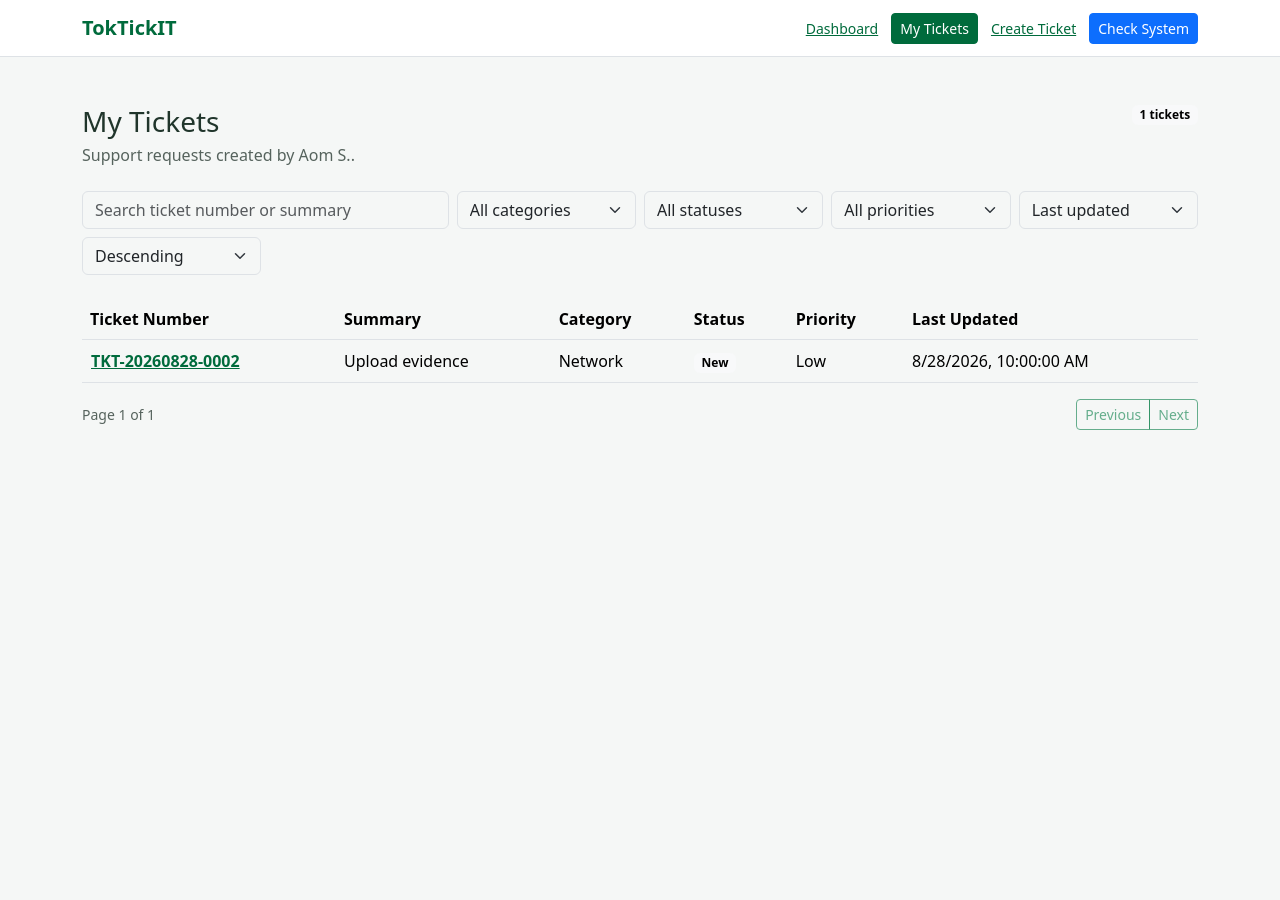
Test: Attachment section › retains removed attachment metadata and its reason when the API returns 204 No Content
Click the button "TKT-20260828-0002": (165, 361) [90,348,241,374]
(page scrolled)
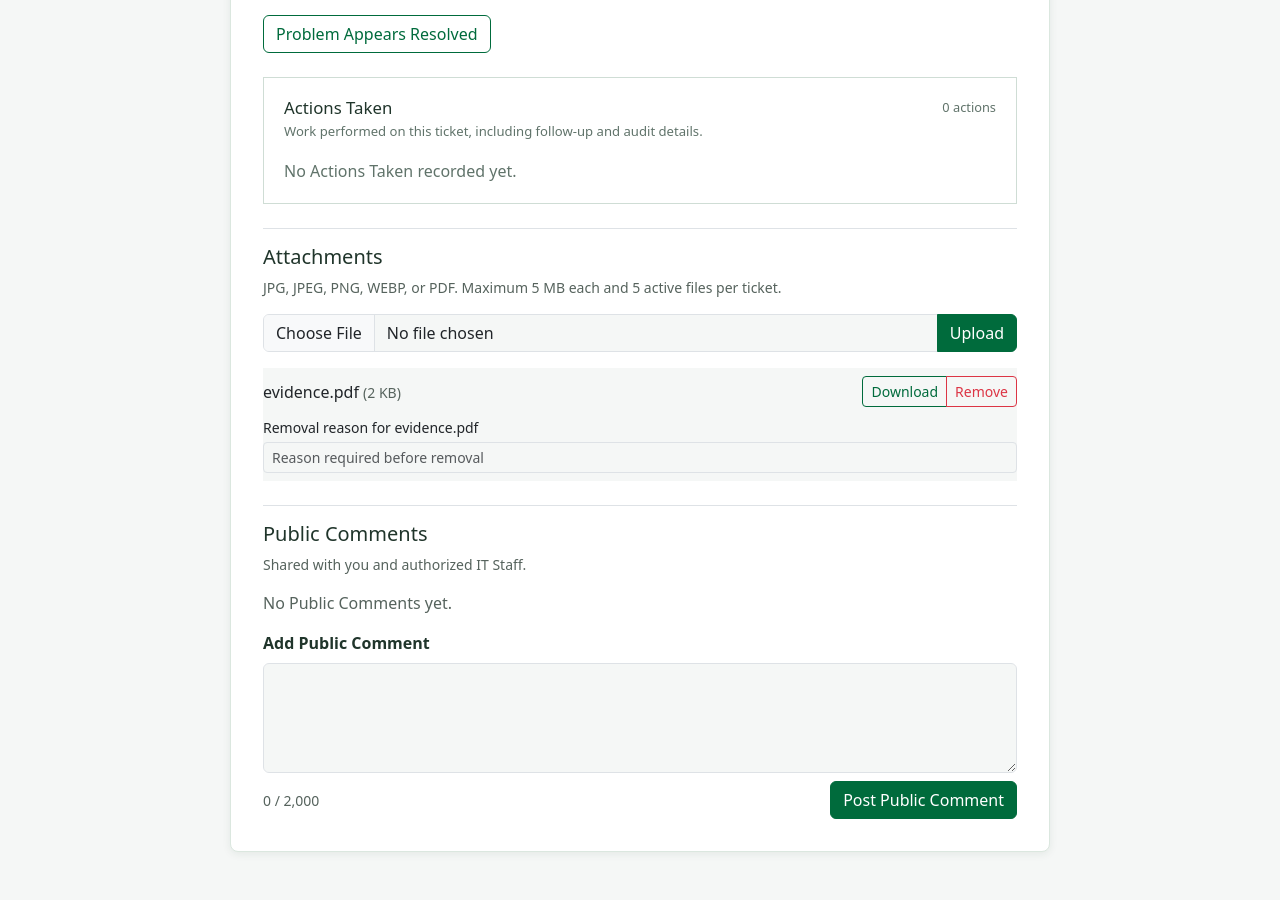
Check: the file field named "attachment file" is shown, box [263,314,938,352]
In the field labelled "Removal reason for evidence.pdf": (640, 458) [263,442,1017,473], type "Uploaded the wrong evidence file."
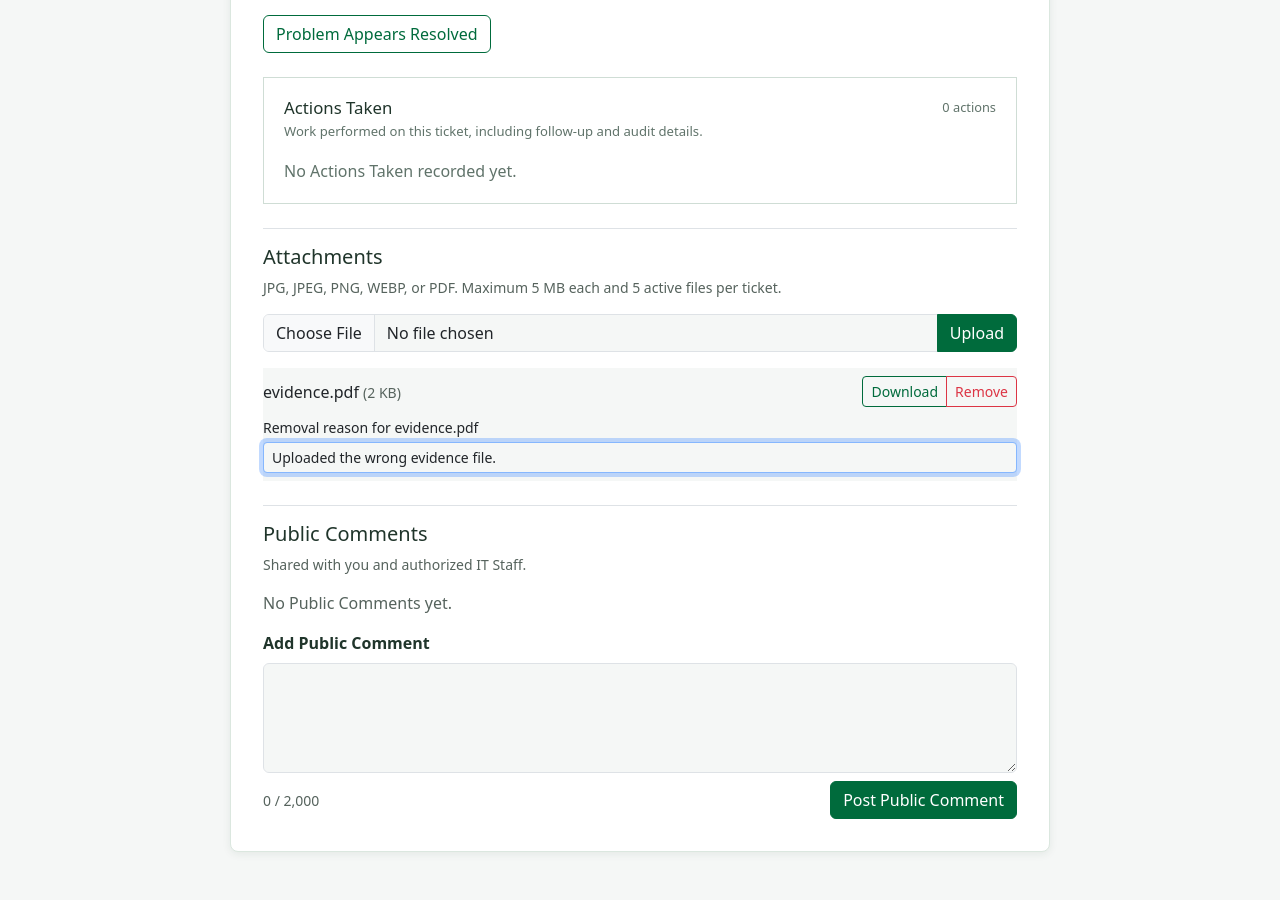
Click the button "Remove": (982, 392) [946,376,1017,407]
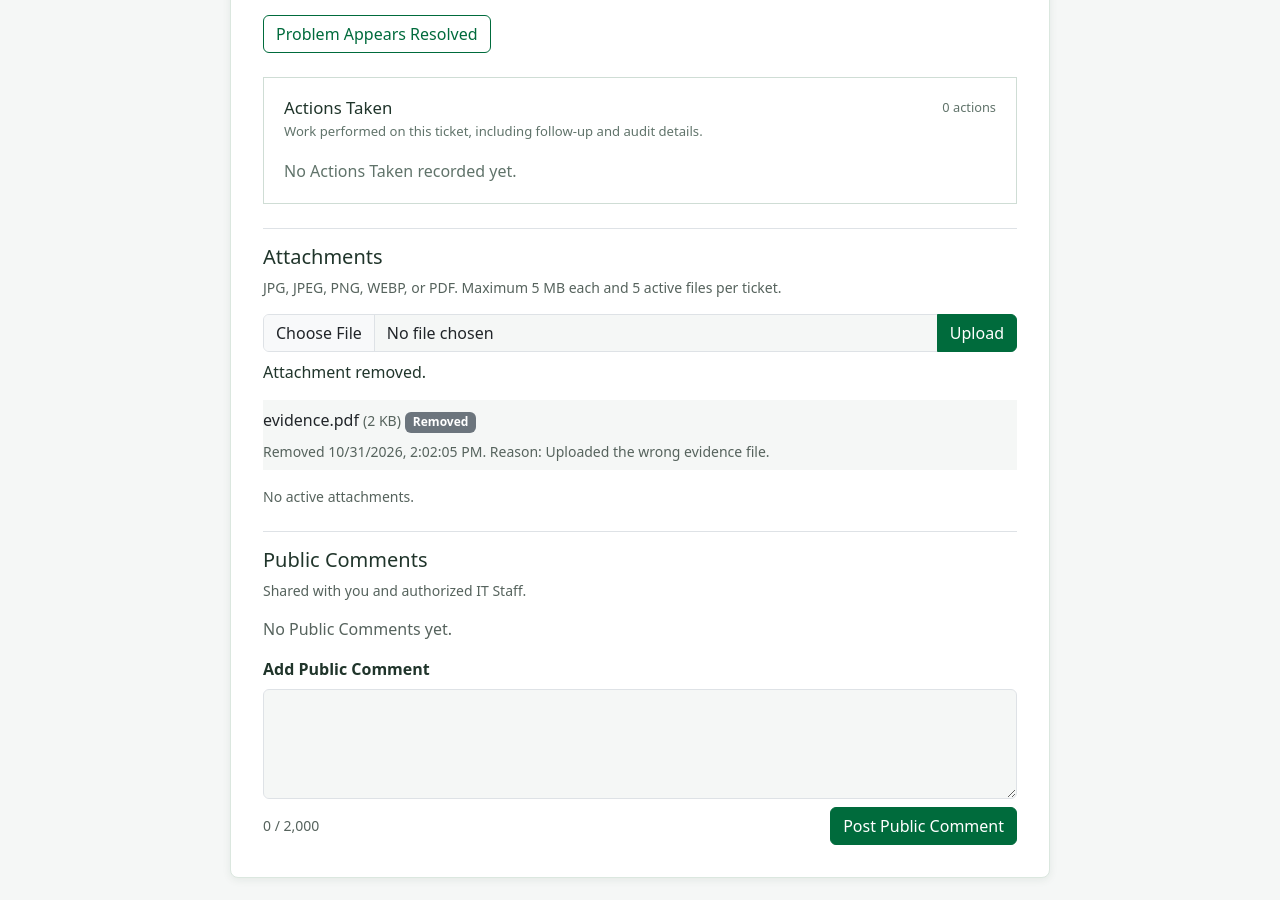
Check: the text "evidence.pdf (2 KB) Removed" is shown, box [263,408,476,433]
Check: the text "Attachment removed." is shown, box [263,361,426,383]
Check: the text "Reason: Uploaded the wrong evidence file" is shown, box [263,442,770,461]
